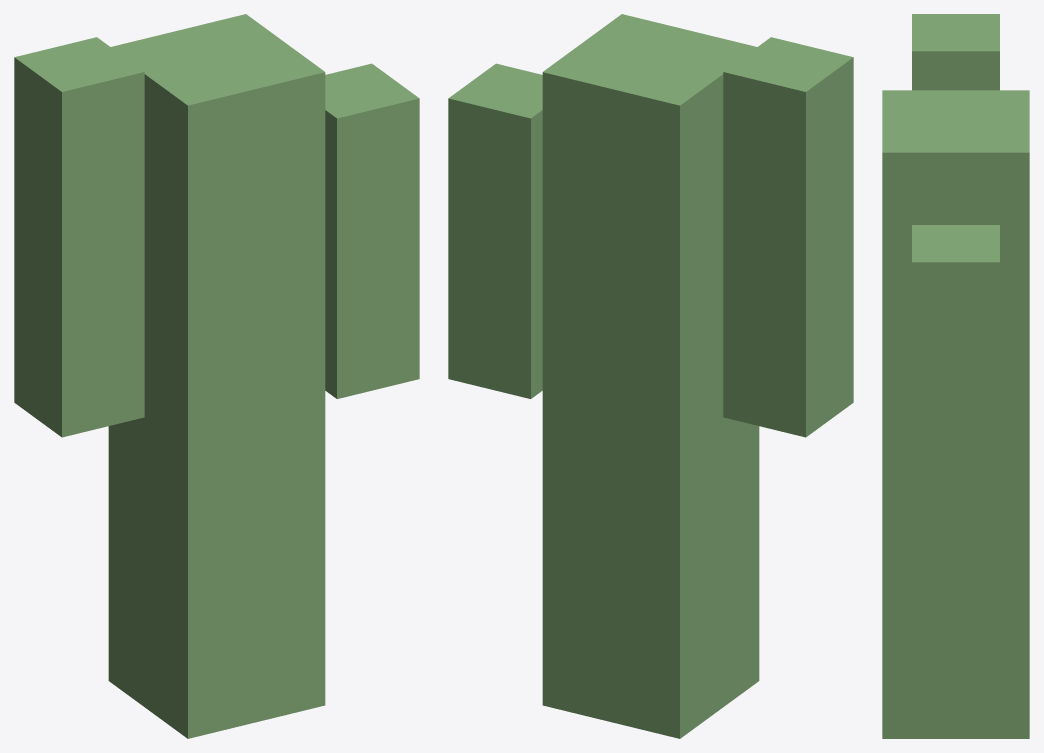
The model's file is prop_cactus.glb.
3 views of the same model, side by side, from view 1: azimuth 30°, elevation 25°; view 2: azimuth 150°, elevation 25°; view 3: azimuth 270°, elevation 25° (orthographic). The views are drawn at different scales.
Visible parts, largest first — view 1: Prop_Cactus; view 2: Prop_Cactus; view 3: Prop_Cactus.
Boxes of the visible parts, box(x1,y1,x2,y2) form: Prop_Cactus: box(14, 14, 419, 738); Prop_Cactus: box(448, 14, 853, 738); Prop_Cactus: box(882, 14, 1029, 738).
Bounding box in the file's own units: 1.3 × 2.3 × 0.5.
